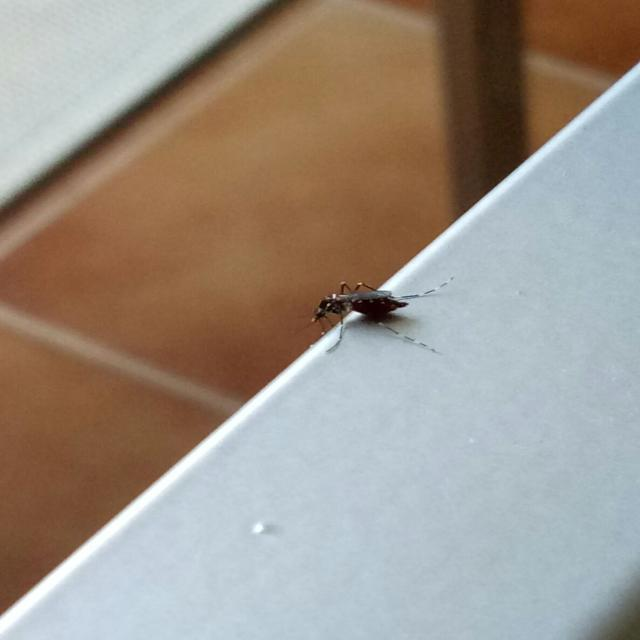albopictus: (295, 266, 457, 362)
